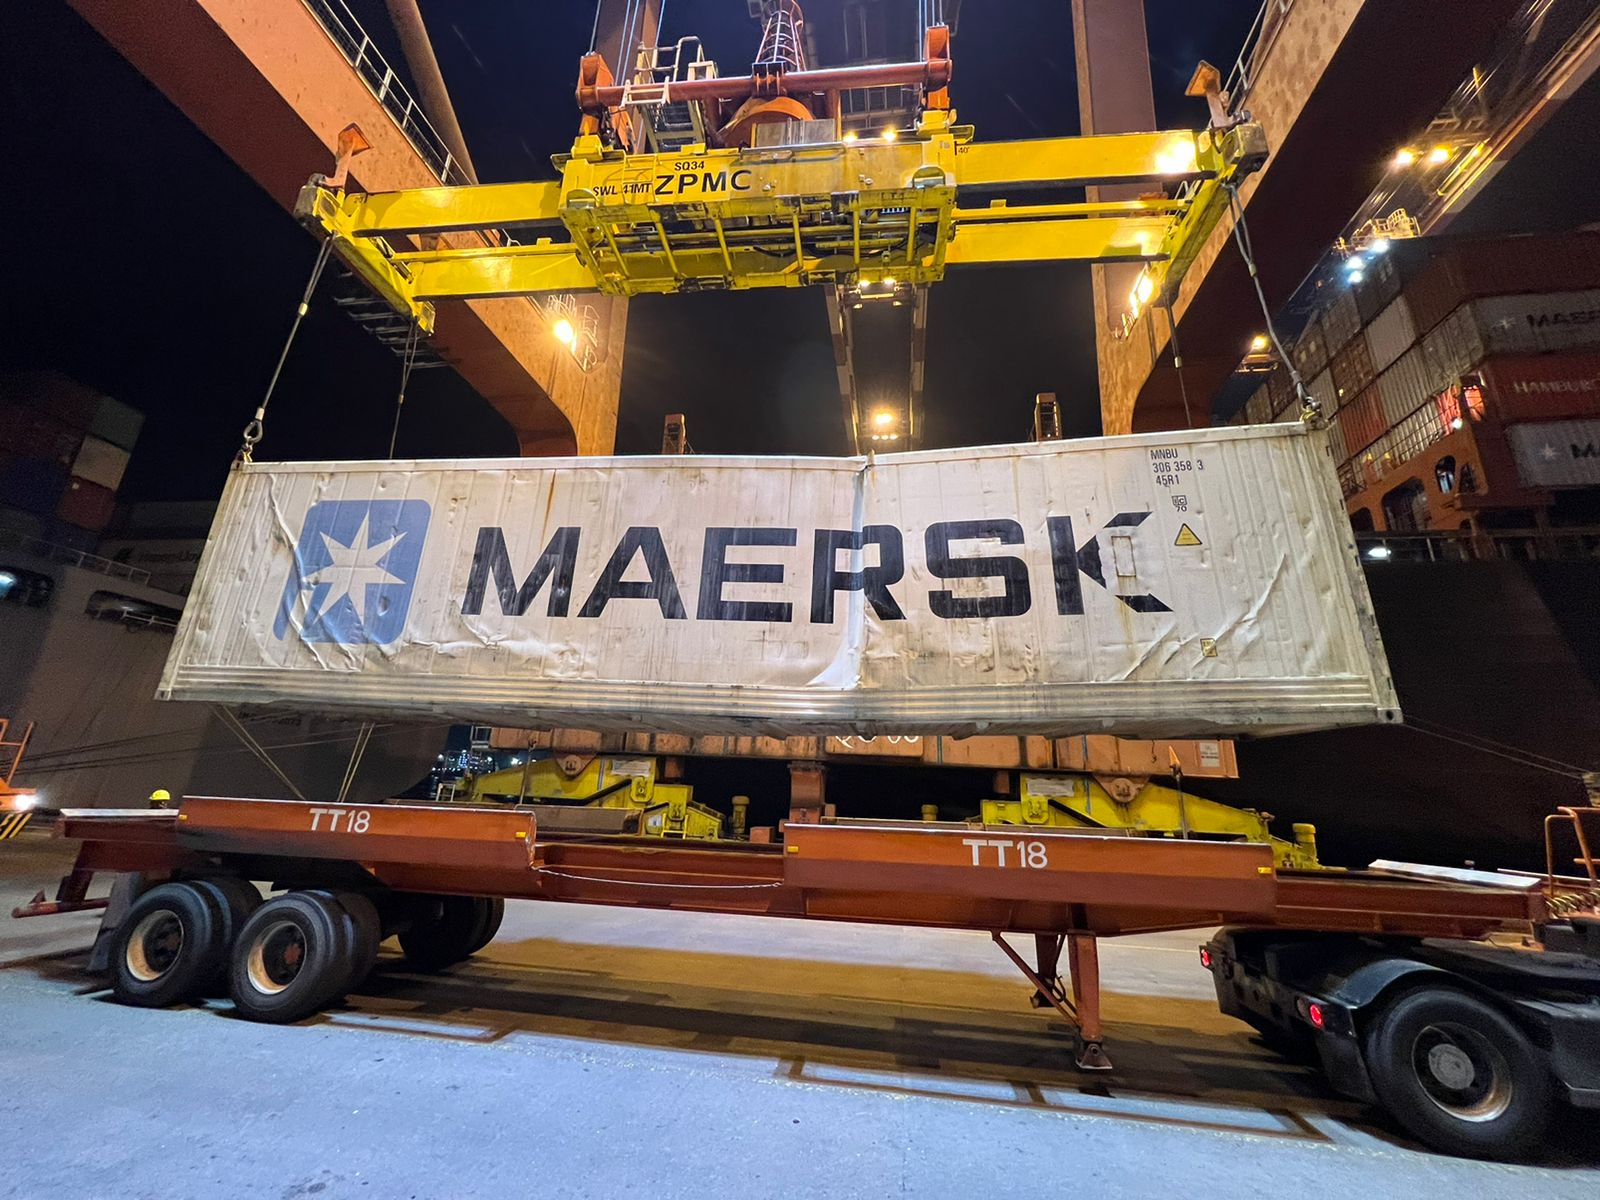bulged: (1099, 550, 1311, 674), (239, 505, 362, 666), (378, 629, 556, 678), (800, 650, 1078, 679)
